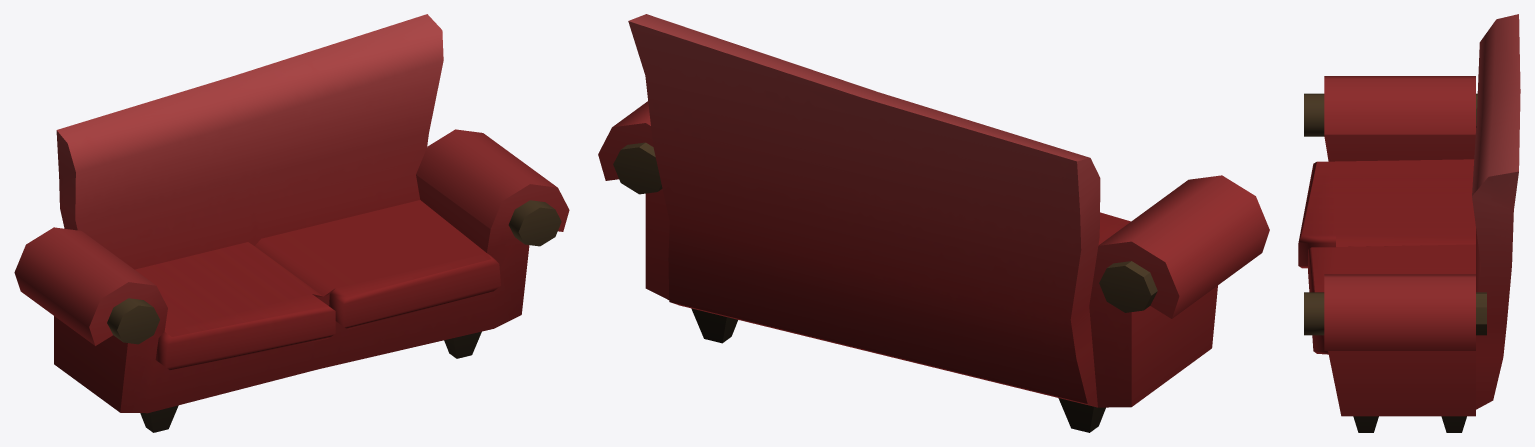
File: divano.fbx
3 views of the same model, side by side, from view 1: azimuth 30°, elevation 25°; view 2: azimuth 150°, elevation 25°; view 3: azimuth 270°, elevation 25° (orthographic). The views are drawn at different scales.
Parts seen in each view (by area): view 1: SM_divano; view 2: SM_divano; view 3: SM_divano.
Boxes of the visible parts, bbox=[...] form: SM_divano: bbox=[14, 14, 569, 432]; SM_divano: bbox=[598, 14, 1269, 432]; SM_divano: bbox=[1298, 14, 1520, 432].
Bounding box in the file's own units: 418 × 228 × 165.
